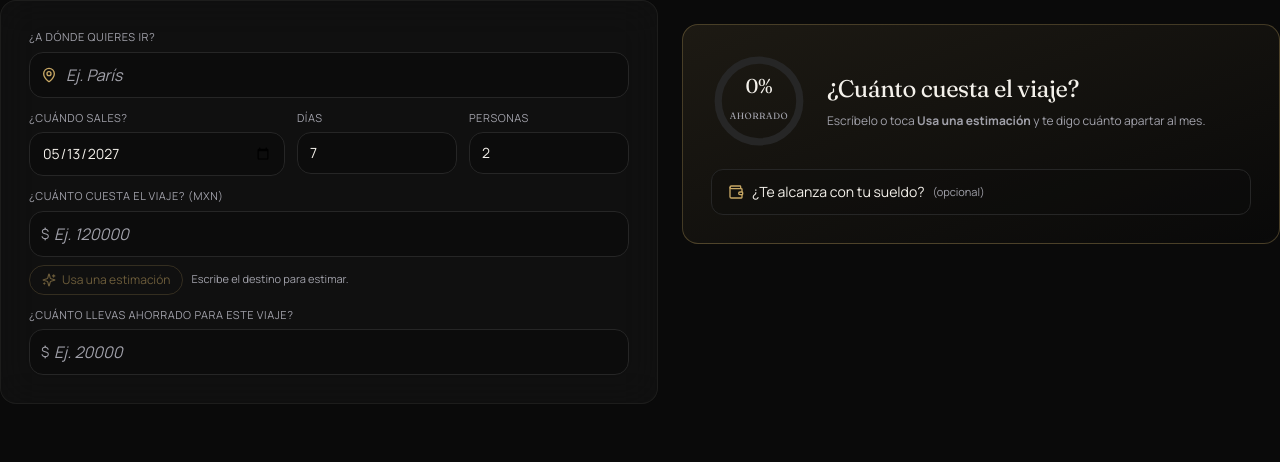
it: Ahorro para tu viaje: pantalla › destino que no reconoce: pide la región antes de estimar
The width and height of the screenshot is (1280, 462).
Type "Atlantis" into the field labelled "¿A dónde quieres ir?" at (329, 74), box [29,52,629,98]
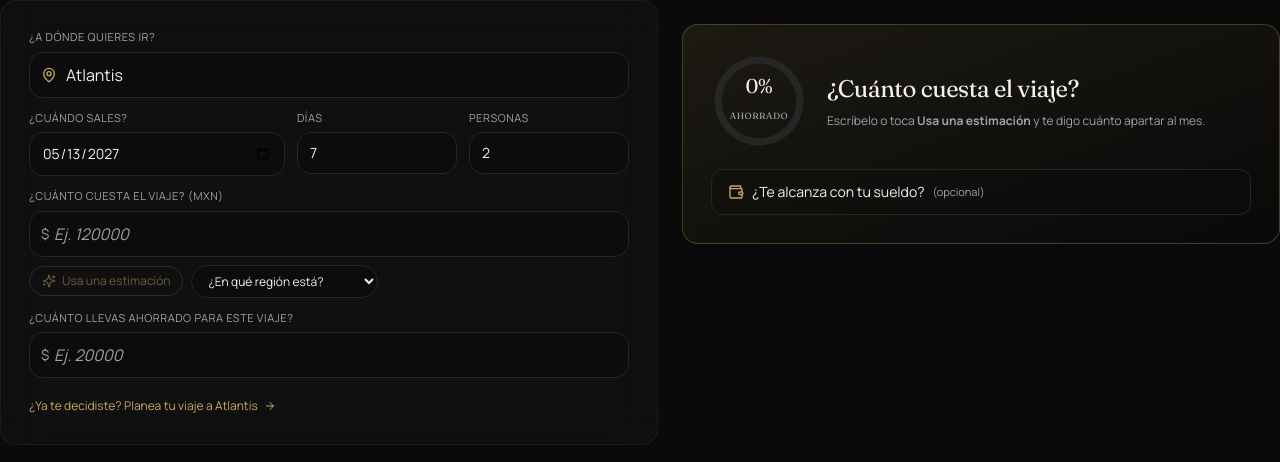
expect the button "Usa una estimación" is disabled: met, box [29,266,183,296]
Select "Europa" in the dropdown named "Región del destino" at (285, 281), box [191,264,378,298]
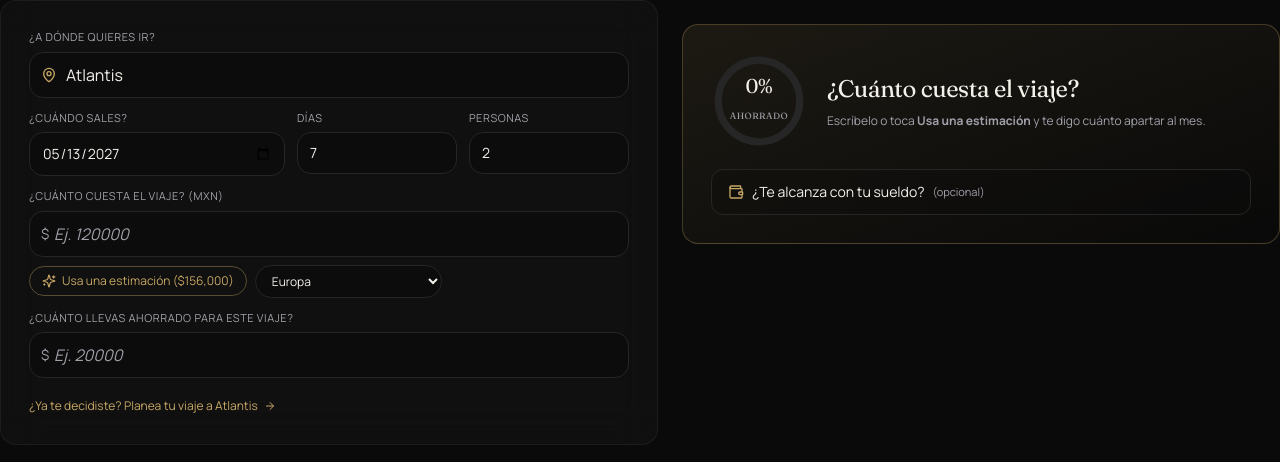
expect the button "Usa una estimación ($156,000)" is enabled: met, box [29,266,247,296]
